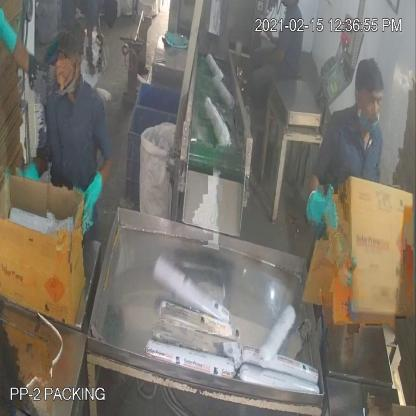glove: (70, 167, 104, 240), (300, 178, 341, 236), (0, 1, 20, 63)
no_glove: (254, 37, 294, 72)
